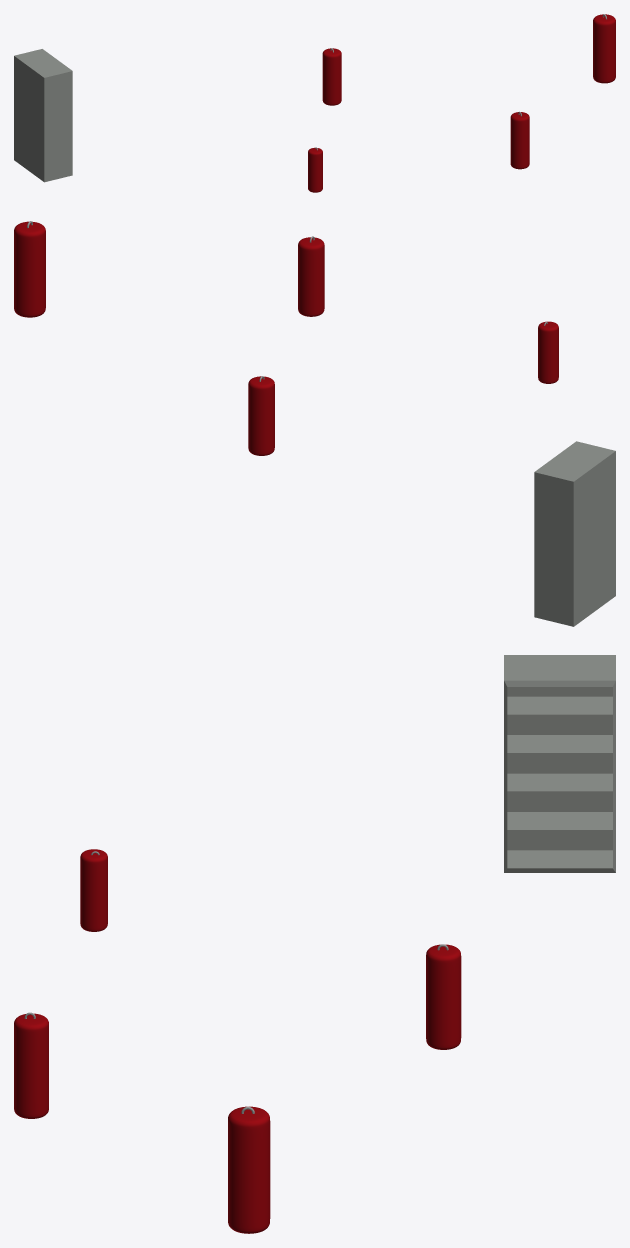
The model's file is punchy_thing_andshelf.fbx.
The picture shows the model from 3 angles, top to bottom: view 1: azimuth 30°, elevation 25°; view 2: azimuth 150°, elevation 25°; view 3: azimuth 270°, elevation 25°; orthographic projection. The views are drawn at different scales.
Visible parts, largest first — view 1: Cube.003, Cylinder, Cylinder.002, Cylinder.001, Cylinder.003; view 2: Cube.003, Cylinder, Cylinder.001, Cylinder.002, Cylinder.003; view 3: Cube.003, Cylinder, Cylinder.002, Cylinder.001, Cylinder.003.
Boxes of the visible parts, left/top/right/bottom form: Cube.003: left=14, top=49, right=72, bottom=182; Cylinder: left=593, top=14, right=615, bottom=83; Cylinder.002: left=322, top=48, right=341, bottom=105; Cylinder.001: left=510, top=112, right=529, bottom=169; Cylinder.003: left=308, top=147, right=322, bottom=192; Cube.003: left=534, top=441, right=615, bottom=626; Cylinder: left=14, top=221, right=45, bottom=317; Cylinder.001: left=298, top=237, right=324, bottom=316; Cylinder.002: left=248, top=376, right=274, bottom=455; Cylinder.003: left=538, top=321, right=558, bottom=383; Cube.003: left=504, top=655, right=615, bottom=872; Cylinder: left=228, top=1106, right=270, bottom=1233; Cylinder.002: left=426, top=944, right=461, bottom=1049; Cylinder.001: left=14, top=1013, right=48, bottom=1118; Cylinder.003: left=80, top=849, right=107, bottom=931.
Size of the model in its own units: 307 by 61.16 by 173.
